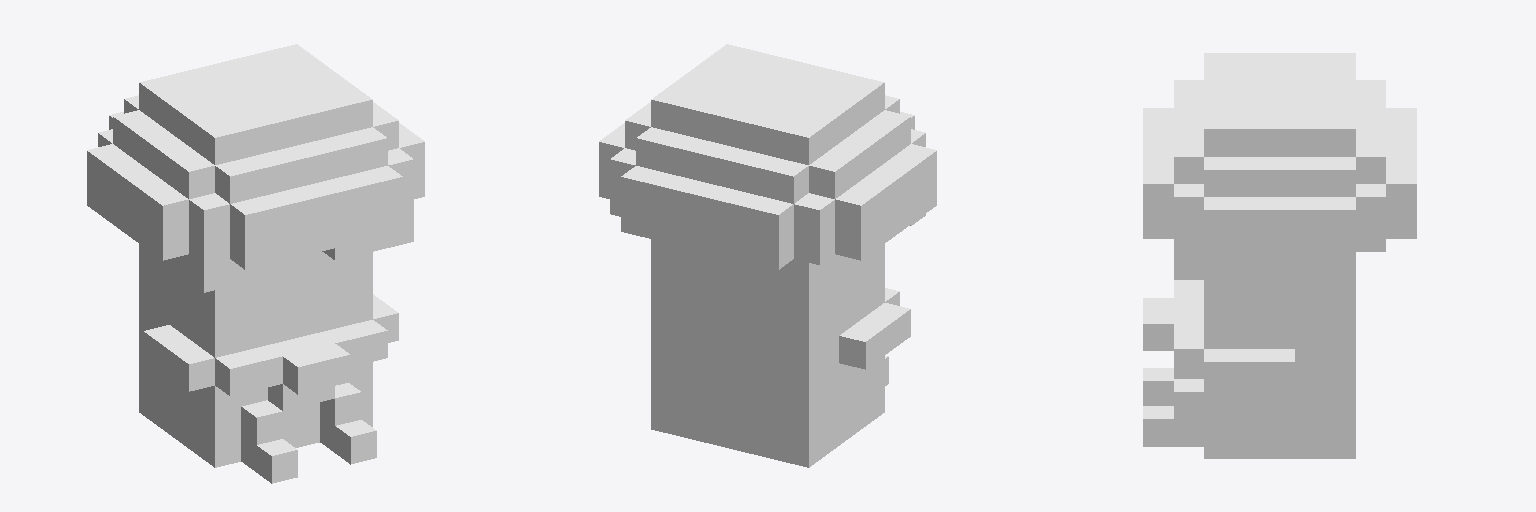
The model's file is fisherMan.obj.
3 renders of one model, left to right at view 1: azimuth 30°, elevation 25°; view 2: azimuth 150°, elevation 25°; view 3: azimuth 270°, elevation 25°, orthographic.
Bounding box in the file's own units: 10 × 12 × 9.